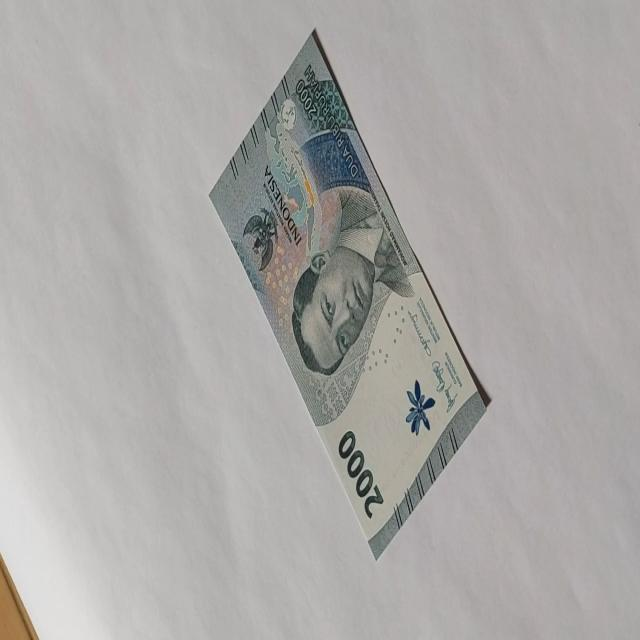dua ribu rupiah: (208, 27, 490, 561), (290, 183, 414, 377)
